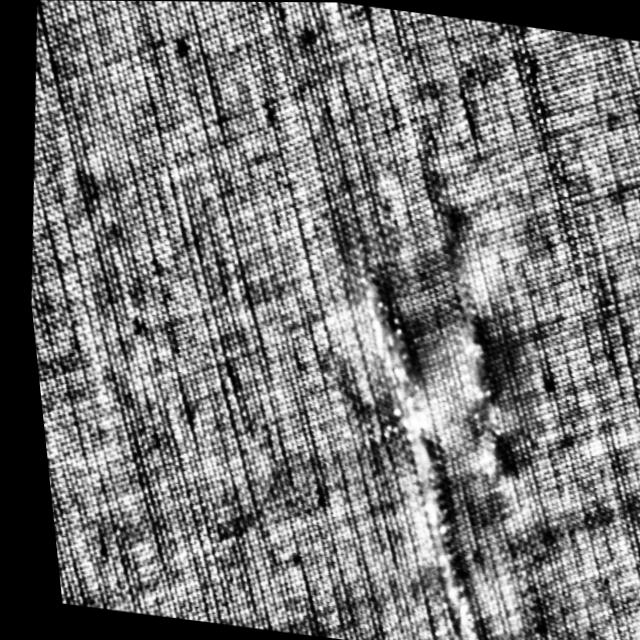Stitch: (311, 242, 522, 640), (425, 280, 533, 496)
